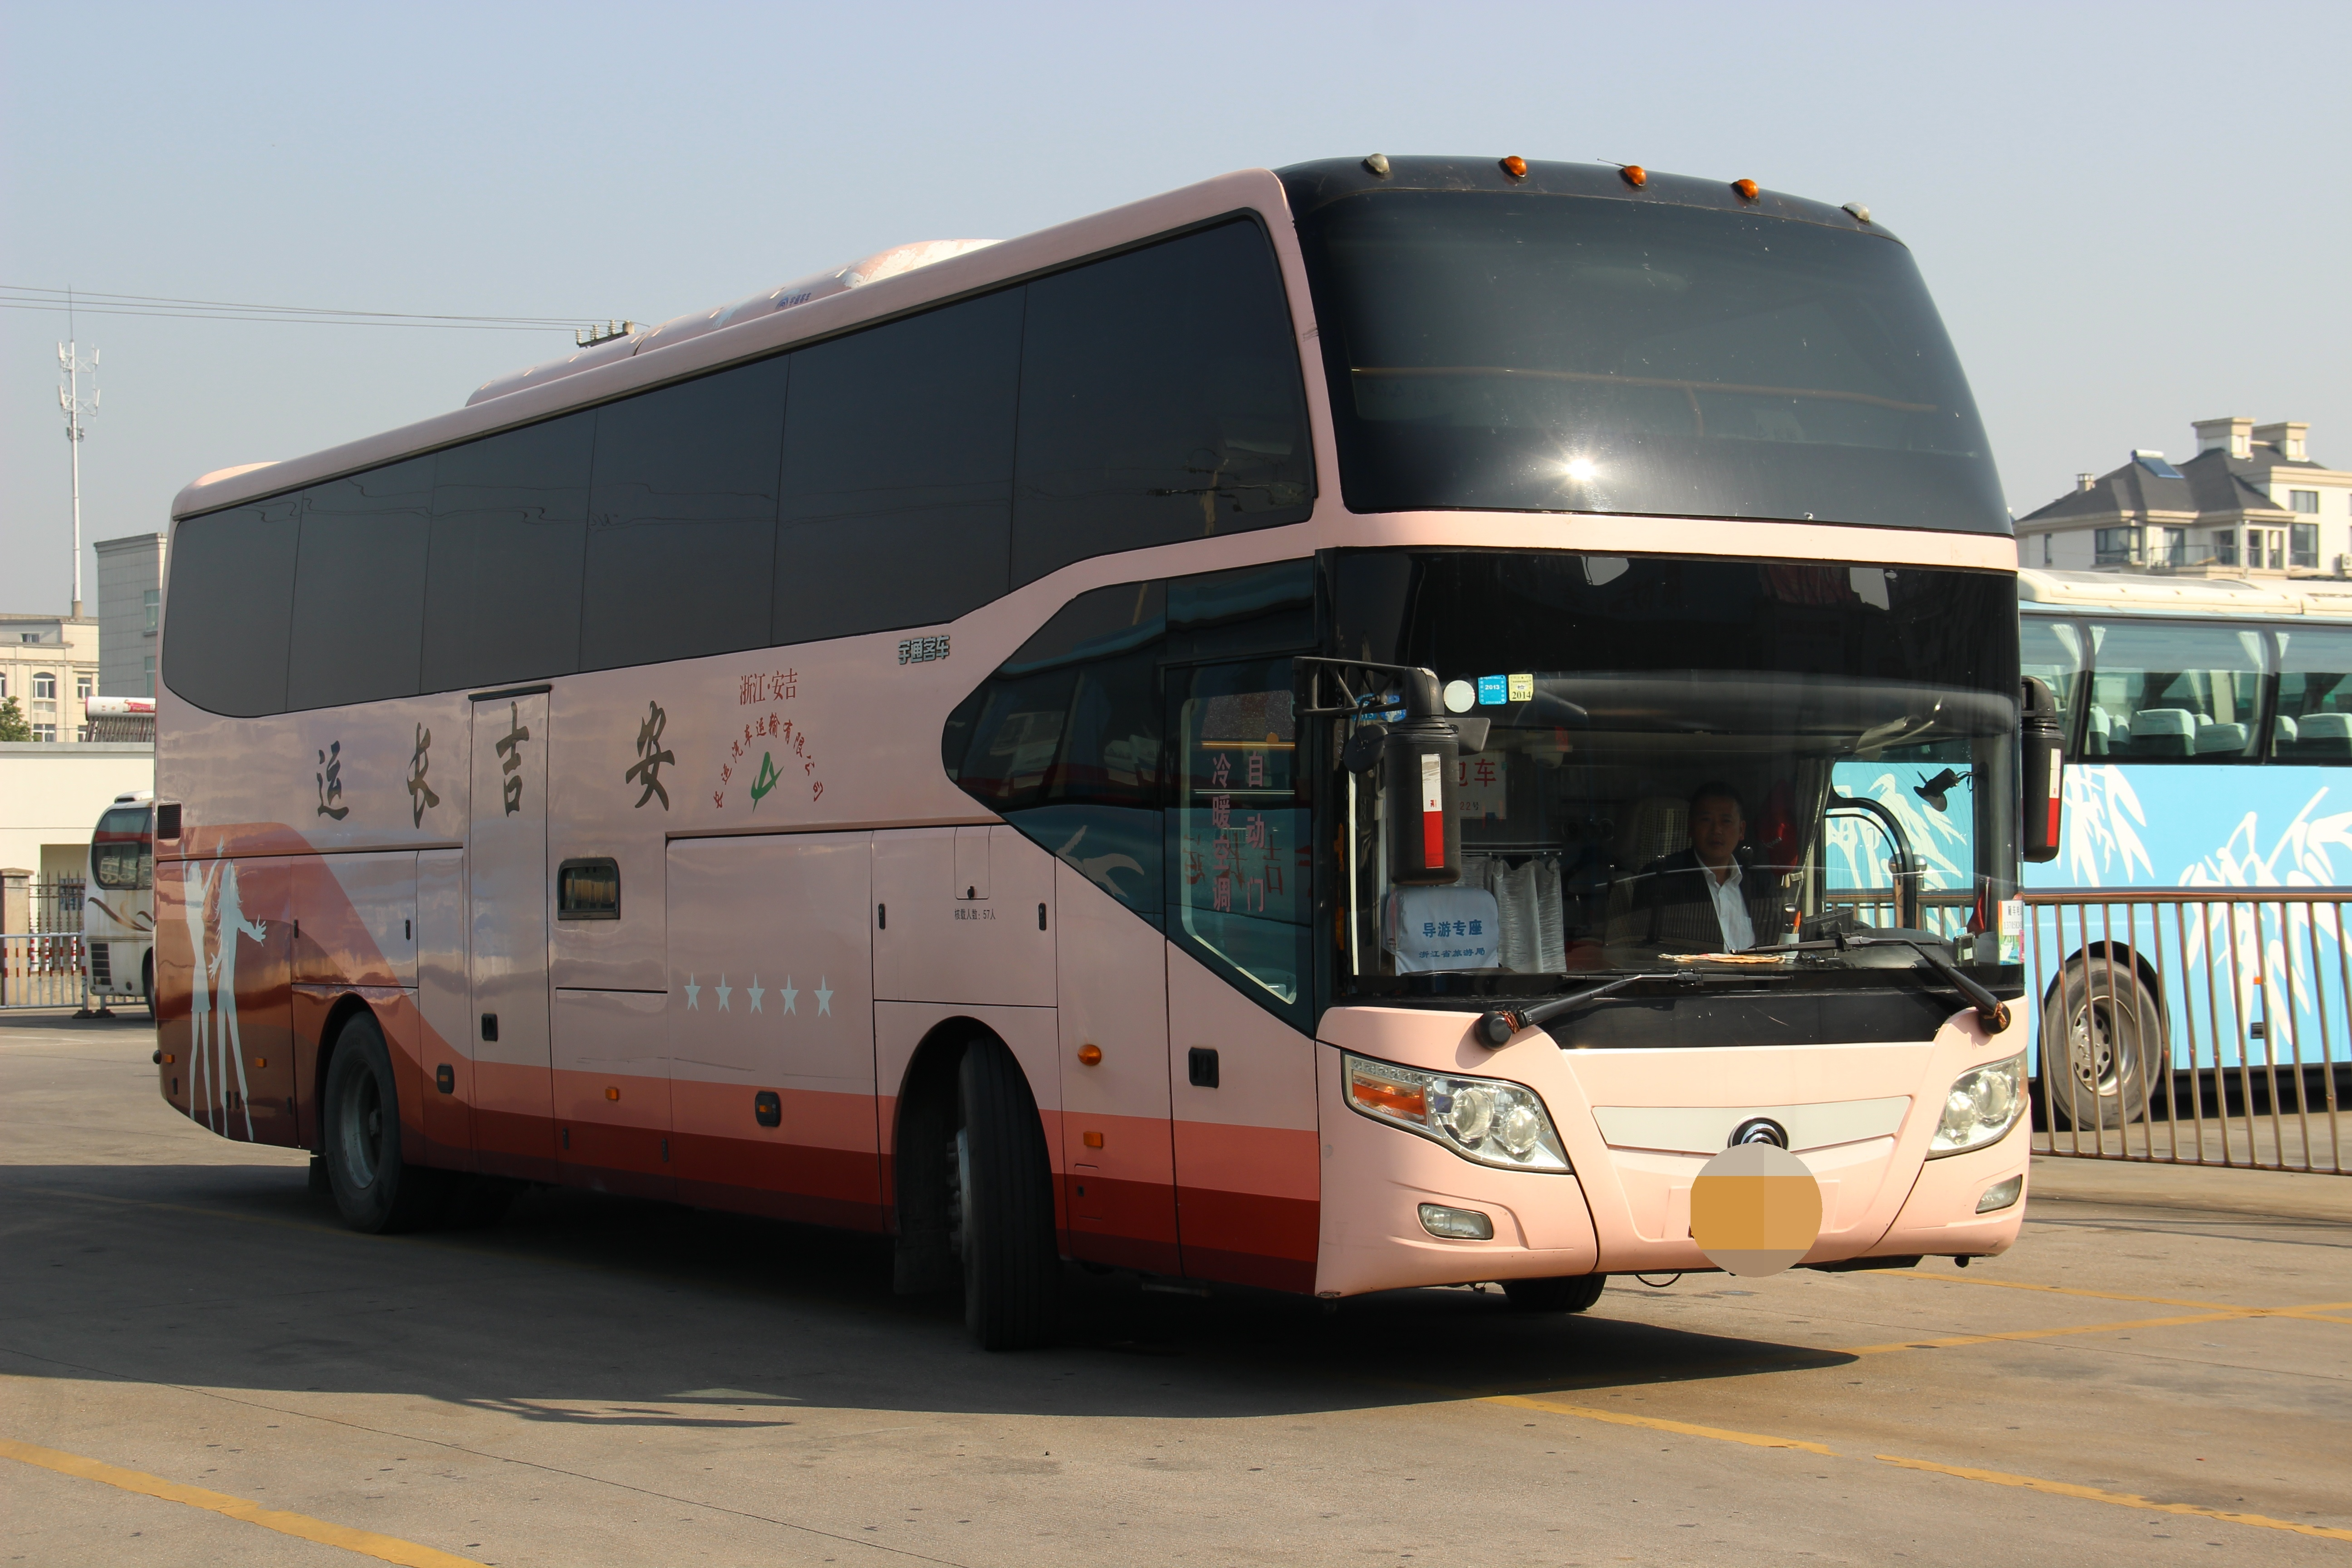bus: (122, 182, 2084, 1351)
